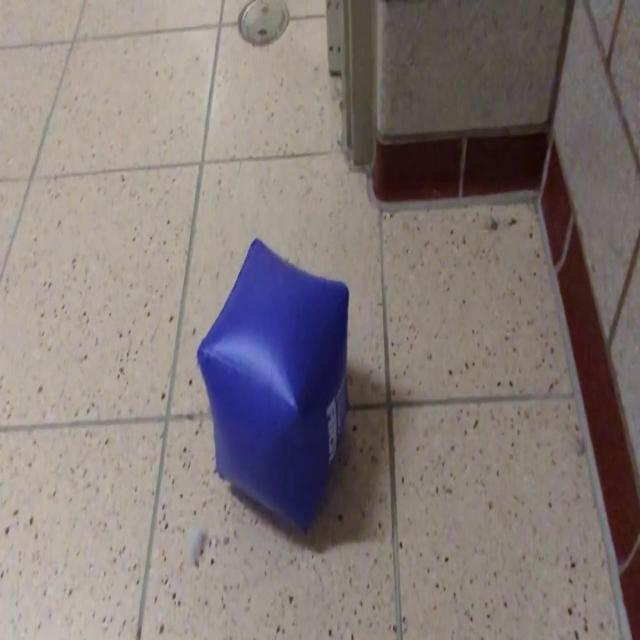frc_cube: (198, 236, 354, 534)
